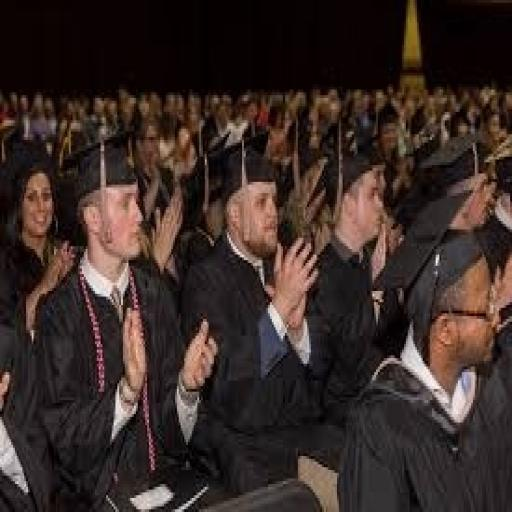clapping: (2, 78, 510, 510)
